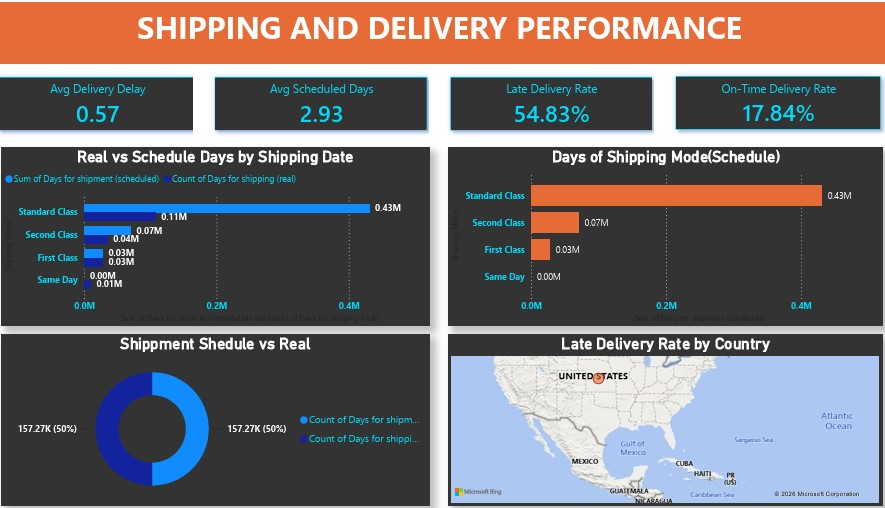

This screenshot's page, from the dashboard's own definition file:
{"tool":"powerbi","page":{"name":"Page 3","canvas":[1280,720],"ordinal":2},"visuals":[{"type":"cardVisual","fields":{"Data":["DataCoSupplyChainDataset.Avg Delivery Delay"]},"box":[0,75.4,332.8,132.8],"z":0},{"type":"cardVisual","fields":{"Data":["DataCoSupplyChainDataset.Avg Scheduled Days"]},"box":[300,75.4,352.5,132.8],"z":1000},{"type":"cardVisual","fields":{"Data":["DataCoSupplyChainDataset.Late Delivery Rate"]},"box":[626.2,75.4,337.7,132.8],"z":2000},{"type":"cardVisual","fields":{"Data":["DataCoSupplyChainDataset.On-Time Delivery Rate"]},"box":[937.7,73.8,342.6,132.8],"z":3000},{"type":"clusteredBarChart","title":"Days of Shipping Mode(Schedule)","fields":{"Y":["Sum(DataCoSupplyChainDataset.Days for shipment (scheduled))"],"Category":["DataCoSupplyChainDataset.Shipping Mode"]},"box":[652.5,201.6,601.6,247.5],"z":4000},{"type":"textbox","box":[0,0,1280.3,85.2],"z":5000},{"type":"donutChart","title":" Shippment Shedule vs Real","fields":{"Y":["CountNonNull(DataCoSupplyChainDataset.Days for shipment (scheduled))","CountNonNull(DataCoSupplyChainDataset.Days for shipping (real))"]},"box":[32.8,460.7,593.4,237.7],"z":6000},{"type":"map","title":"Late Delivery Rate by Country","fields":{"Size":["DataCoSupplyChainDataset.Late Delivery Rate"],"Category":["DataCoSupplyChainDataset.Customer Country"]},"box":[652.5,460.7,601.6,237.7],"z":7000},{"type":"clusteredBarChart","title":"Real vs Schedule Days by Shipping Date","fields":{"Y":["Sum(DataCoSupplyChainDataset.Days for shipment (scheduled))","CountNonNull(DataCoSupplyChainDataset.Days for shipping (real))"],"Category":["DataCoSupplyChainDataset.Shipping Mode"]},"box":[32.8,201.6,593.4,247.5],"z":8000}]}

Visuals, with their boxes in screenshot pixels (x1, y1, x2, y2), scaled from the page's 1280x720 canvas onto the 885x508 screenshot:
cardVisual - DataCoSupplyChainDataset.Avg Delivery Delay: select_region(0, 53, 230, 147)
cardVisual - DataCoSupplyChainDataset.Avg Scheduled Days: select_region(207, 53, 451, 147)
cardVisual - DataCoSupplyChainDataset.Late Delivery Rate: select_region(433, 53, 666, 147)
cardVisual - DataCoSupplyChainDataset.On-Time Delivery Rate: select_region(648, 52, 884, 146)
"Days of Shipping Mode(Schedule)" clusteredBarChart: select_region(451, 142, 867, 317)
textbox: select_region(0, 0, 884, 60)
" Shippment Shedule vs Real" donutChart: select_region(23, 325, 433, 493)
"Late Delivery Rate by Country" map: select_region(451, 325, 867, 493)
"Real vs Schedule Days by Shipping Date" clusteredBarChart: select_region(23, 142, 433, 317)
